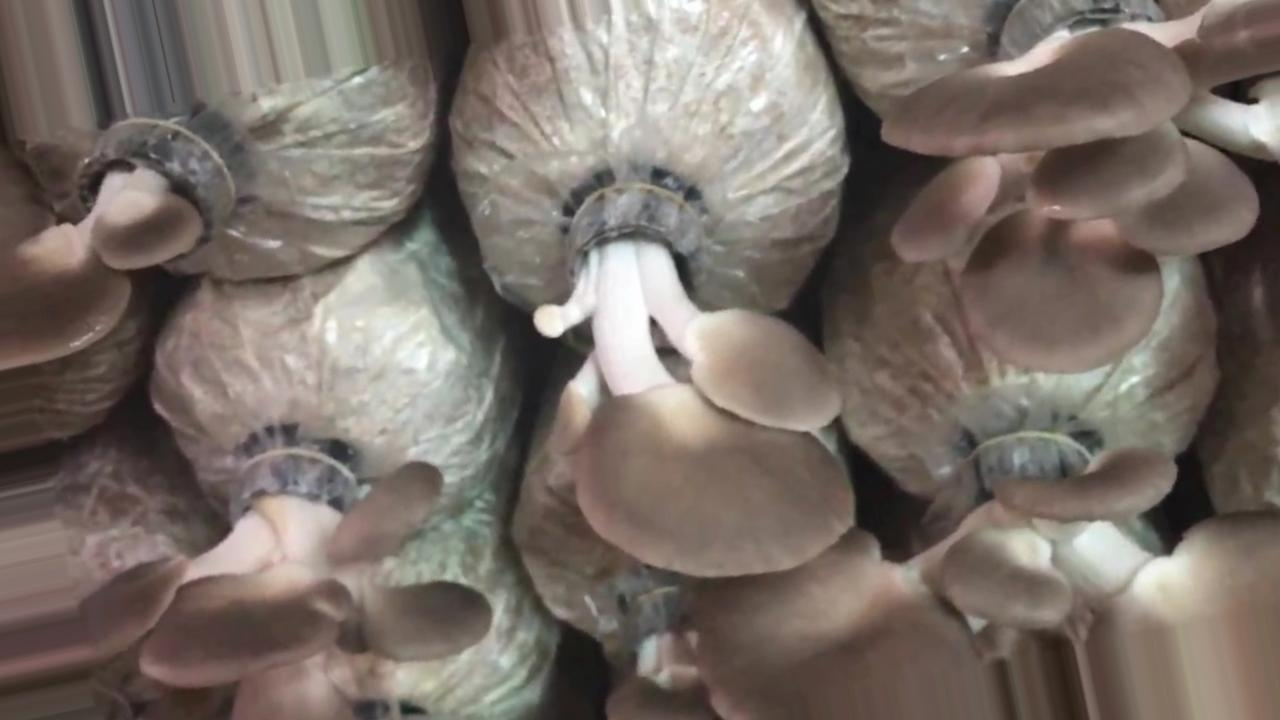nam: (693, 430, 1280, 719), (878, 2, 1278, 375), (534, 166, 857, 578), (145, 439, 493, 720), (1, 110, 256, 372), (595, 578, 716, 720)
